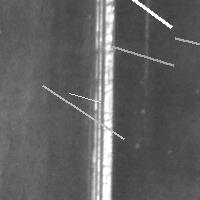scratches: (37, 80, 128, 143), (89, 1, 116, 200), (105, 0, 176, 32), (106, 41, 178, 70), (170, 33, 200, 59), (64, 88, 105, 107)
